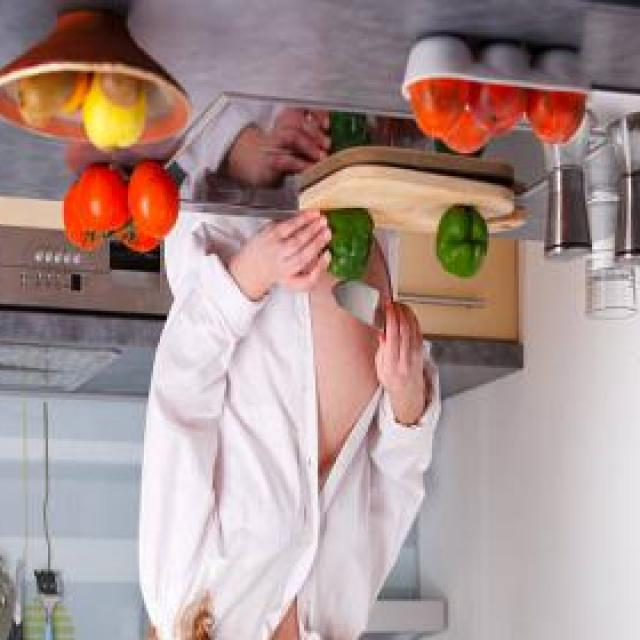knife: (326, 275, 427, 352)
